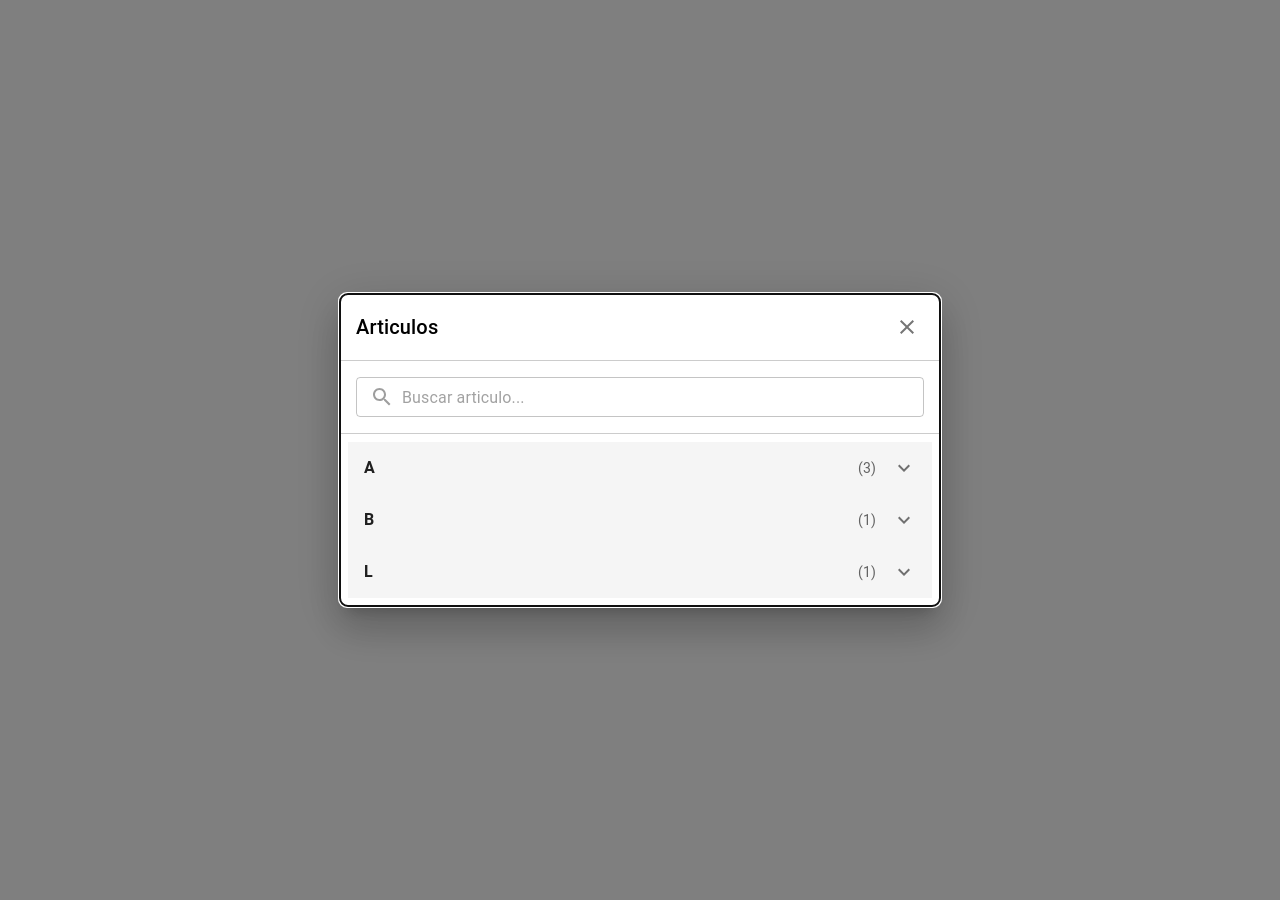
Test: ProductSelectionModal Component › displays 'No se encontraron articulos' when no products match search
This screenshot has width=1280, height=900.
Step 1. Type "xyz" into the field with placeholder "Buscar articulo..." → (663,397), box [402,377,924,417]
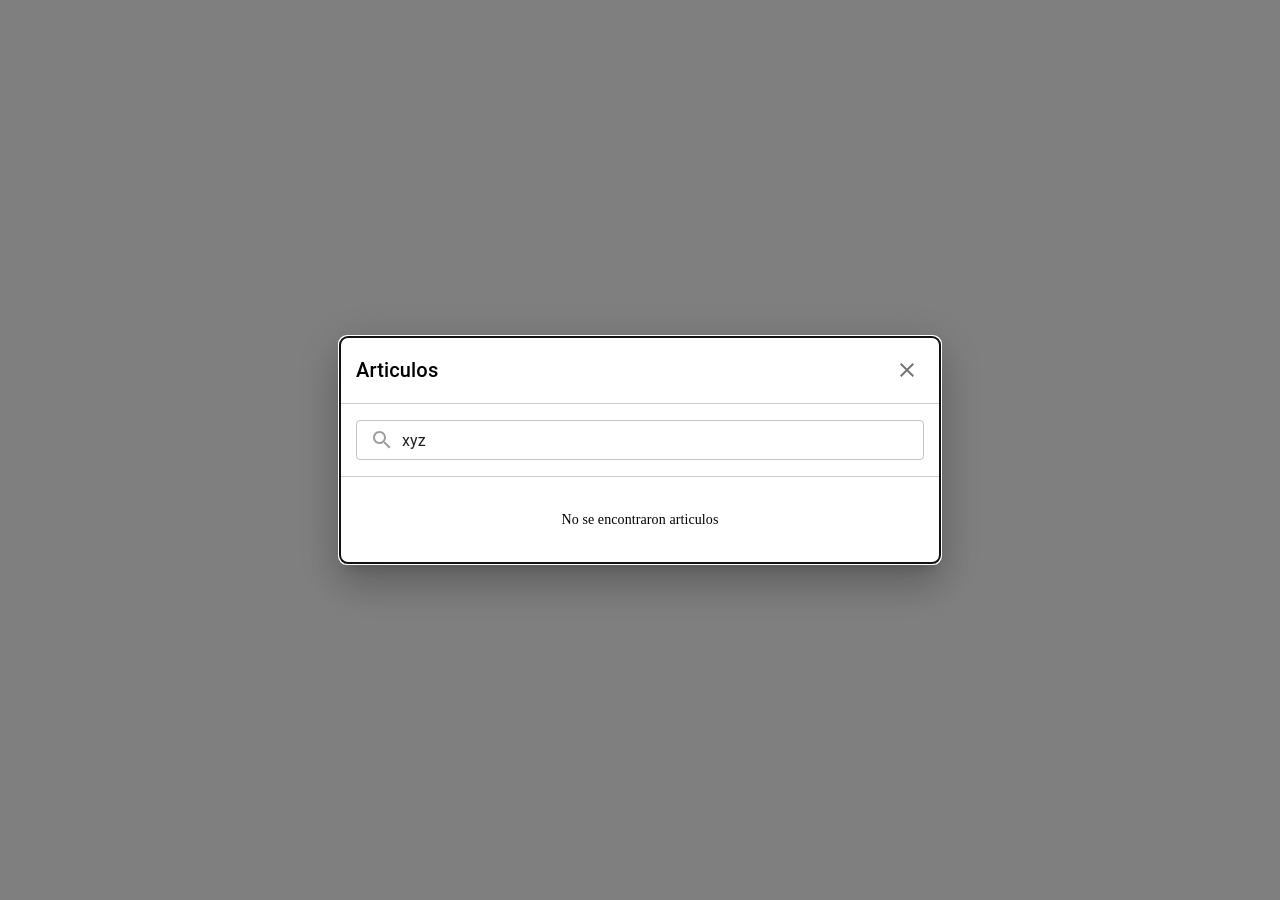
Expected: the heading "No se encontraron articulos" is shown, [562,512,718,527]
